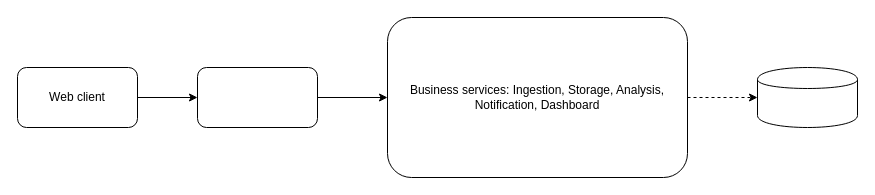
Image size: 875x195. Some labels were removed from this diagram. Here are the shapes that lost their labels. From the top down, the centre of each, then its label:
At [257,97]: "API Gateway".
At [807,97]: "Kafka".
